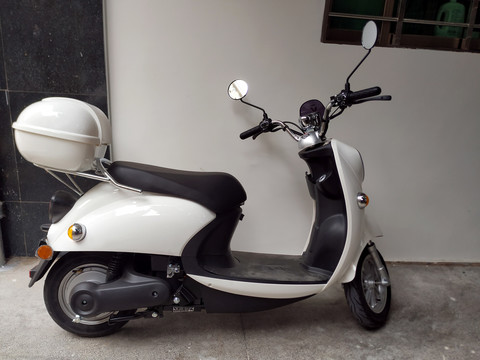MNV: (9, 83, 402, 339)
